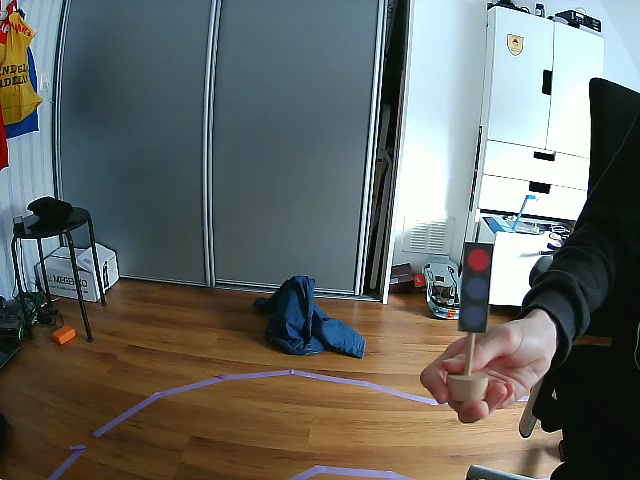roodlicht: (459, 243, 492, 329)
